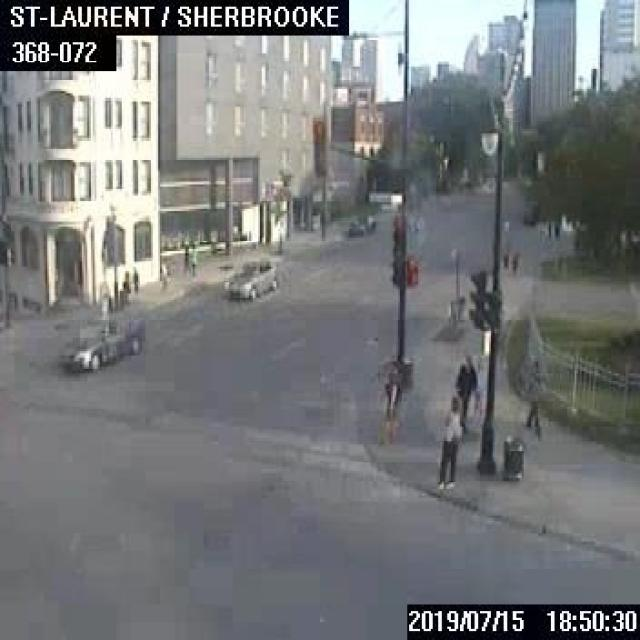pedestrian: (433, 393, 461, 487), (452, 353, 476, 429), (378, 367, 402, 440), (522, 353, 540, 428), (499, 242, 509, 273), (122, 268, 130, 301), (511, 247, 520, 275), (181, 245, 189, 276), (130, 266, 138, 296), (190, 246, 197, 276)
vehicle: (53, 311, 145, 371), (220, 253, 278, 300), (344, 209, 374, 235)
